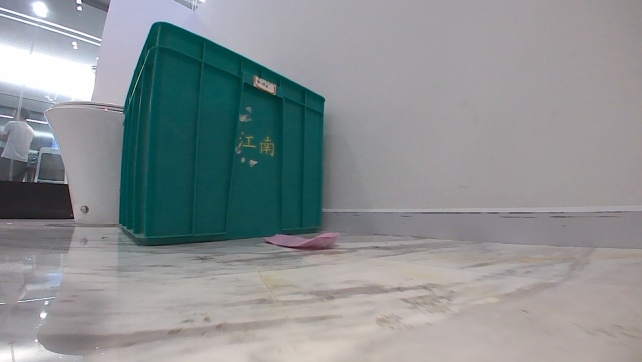socks: (260, 229, 341, 252)
toilet: (40, 98, 124, 227)
